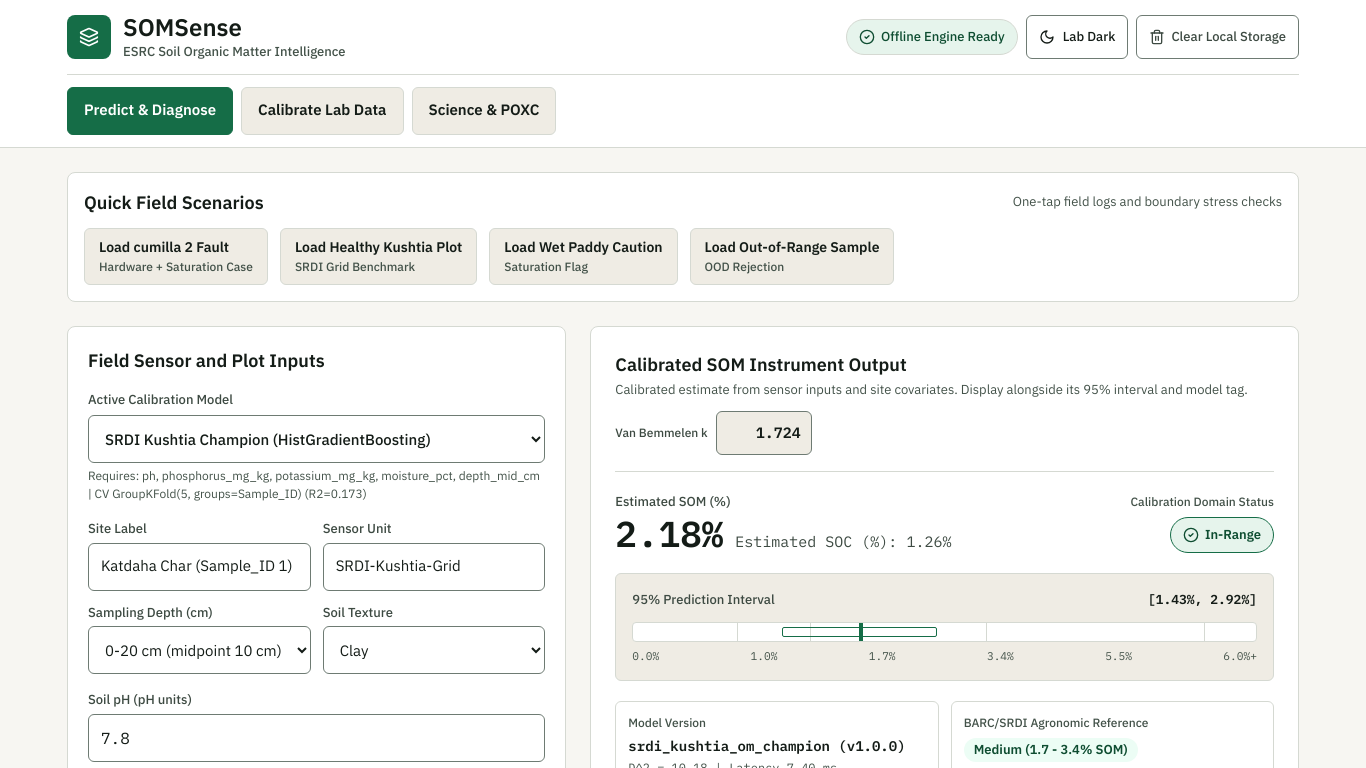
Test case: SOMSense 3-Tab Field Ergonomic UI Integration › loads verified registry, evaluates Healthy Kushtia Plot, and responds to Van Bemmelen k
Expected: the text with test id "estimated-som-readout" reads "2.18%", [615,510,723,556]
Expected: the element with test id "domain-status-pill" reads "In-Range", [1205,526,1261,543]
Replace the text in the field labelled "Van Bemmelen k" with "2.0" at [764, 433], box [716,411,812,455]
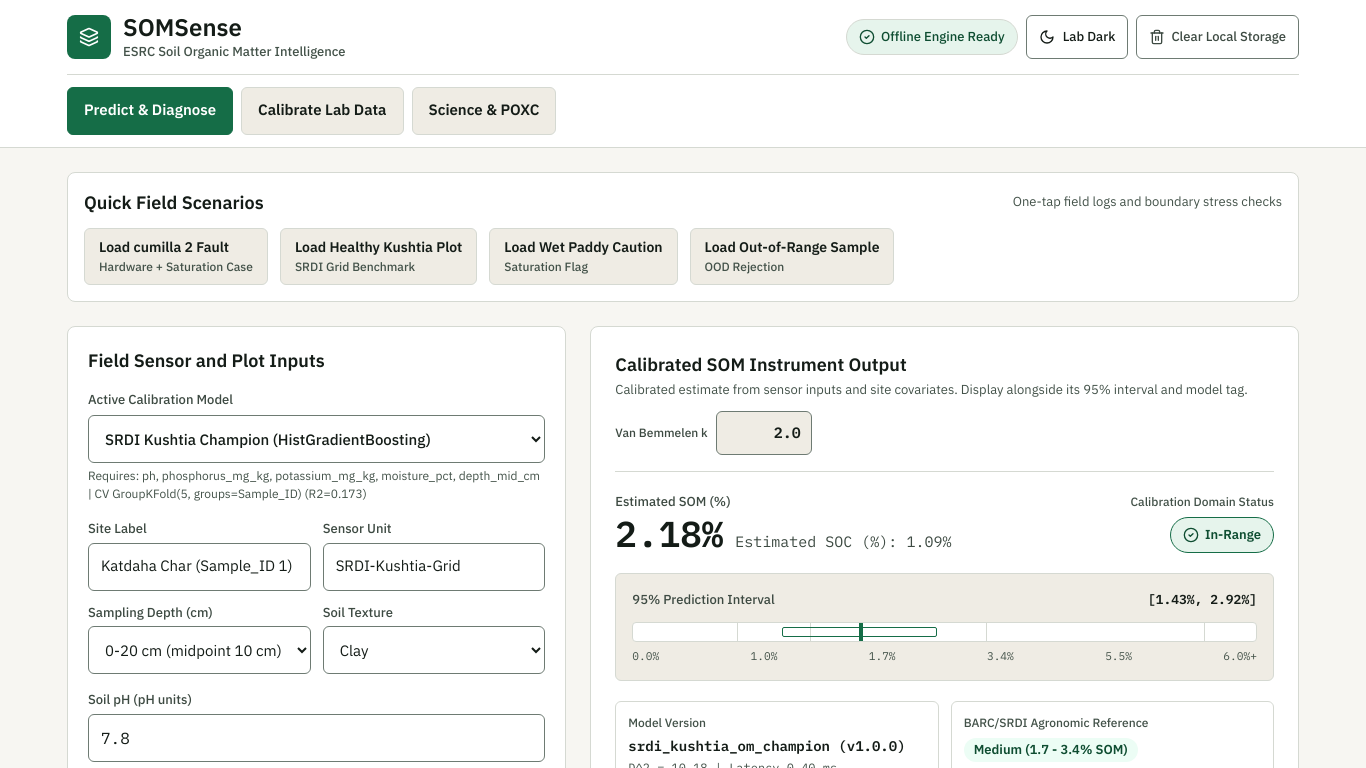
Expected: the text "Estimated SOC (%): 1.09%" is shown, [735,530,951,553]
